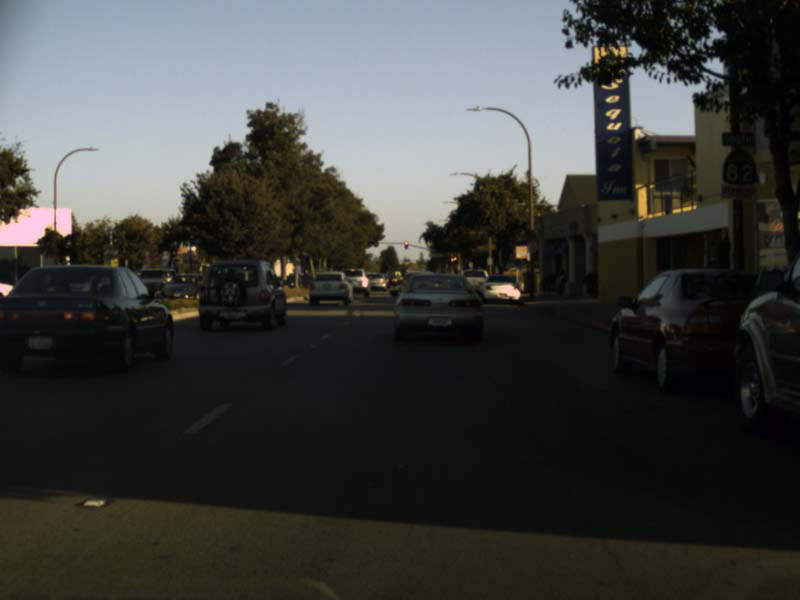Red: (450, 255, 456, 263), (404, 240, 408, 248)
